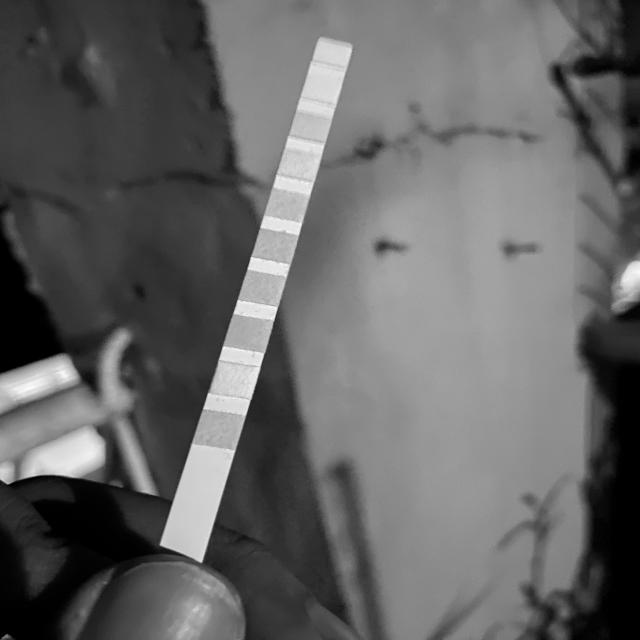Bilirubin: (218, 365, 254, 395)
Blood: (260, 233, 294, 260)
Glucose: (202, 415, 238, 444)
Ketone: (232, 319, 268, 347)
Leukocytes: (321, 43, 349, 63)
Nitrite: (307, 81, 338, 99)
Protein: (284, 154, 317, 178)
SpGravity: (246, 276, 280, 300)
Urobilinogen: (296, 118, 327, 138)
background: (0, 0, 640, 640)
pH: (272, 194, 304, 218)
strip: (158, 39, 355, 558)
